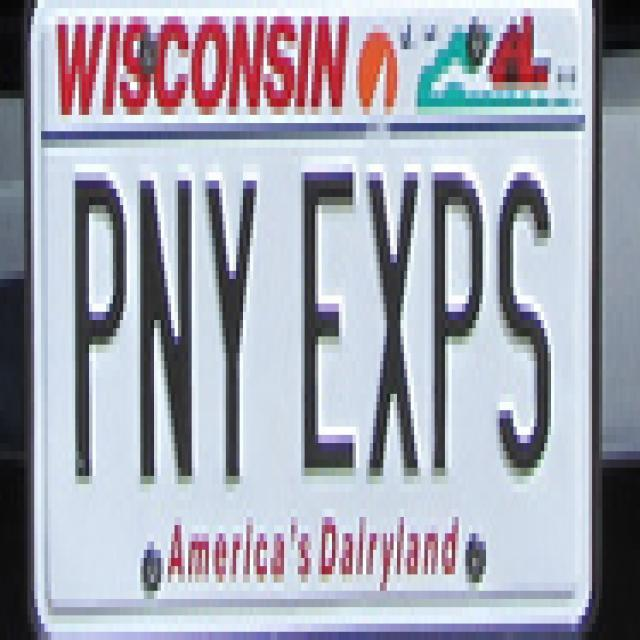E: (286, 160, 364, 490)
N: (134, 164, 198, 486)
P: (62, 163, 132, 474), (431, 150, 491, 487)
S: (493, 157, 560, 479)
X: (368, 168, 429, 487)
Y: (202, 173, 264, 494)
